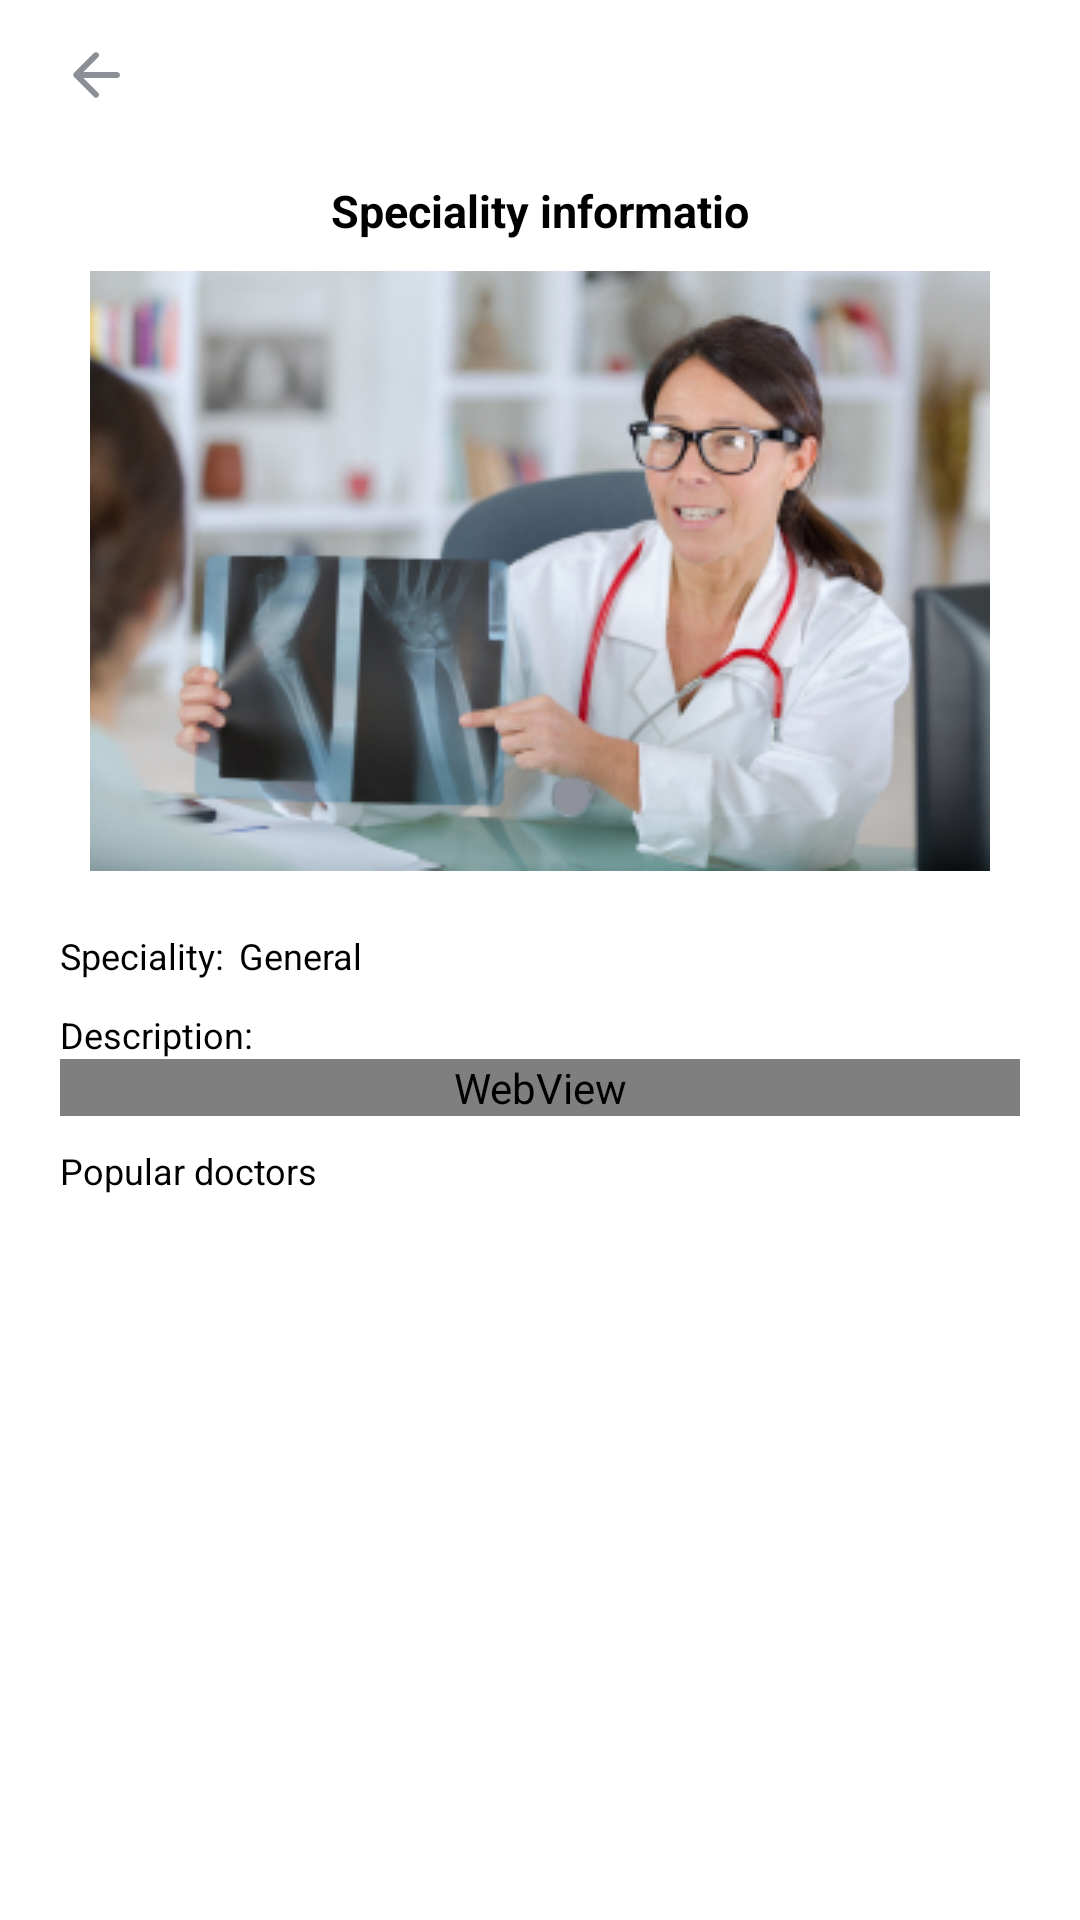

Point at icon controls on the screen. Image size 1080×1920, points as (x,y).
arrow back: (96,75)
